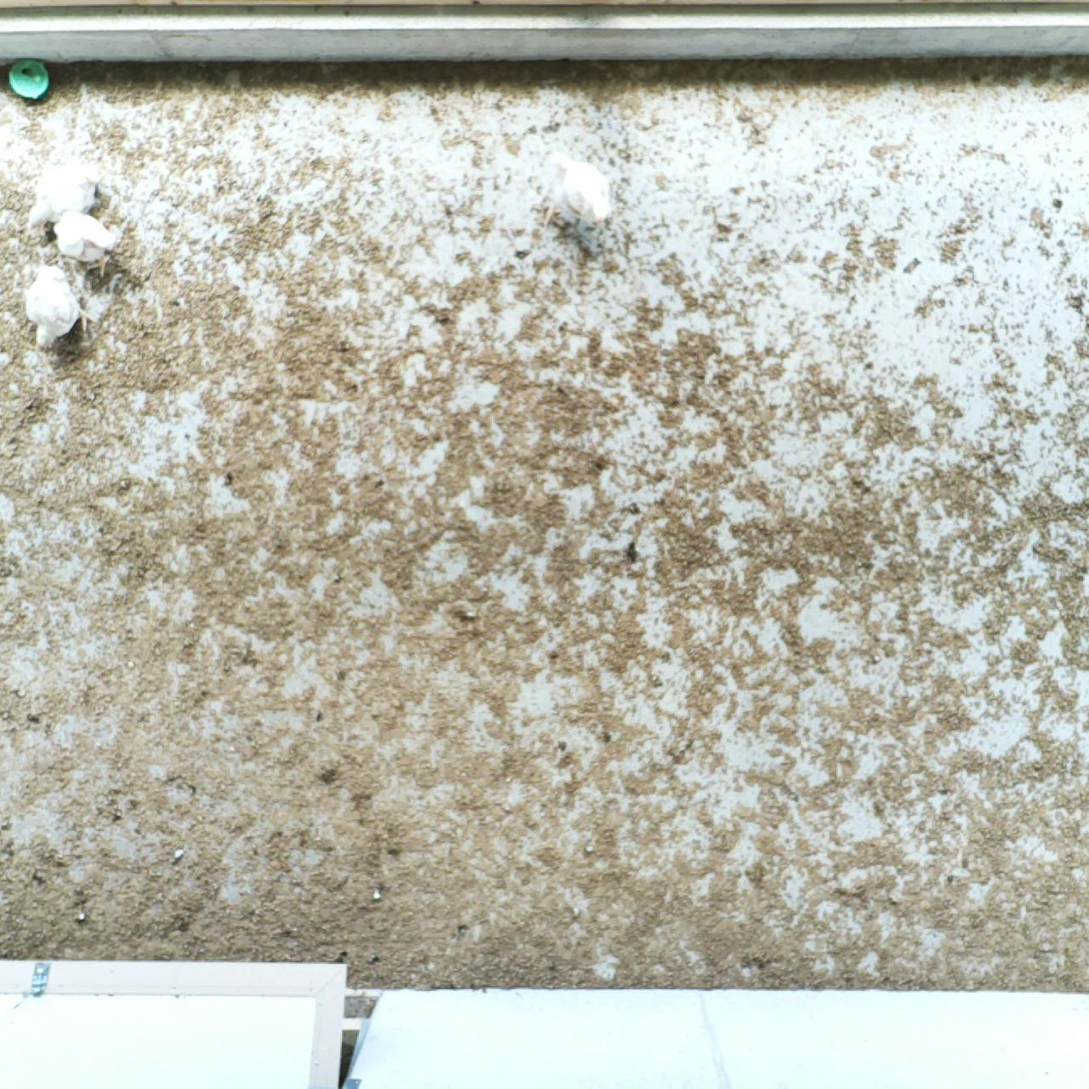chicken: (23, 264, 97, 348), (22, 155, 98, 230), (48, 205, 121, 278)
